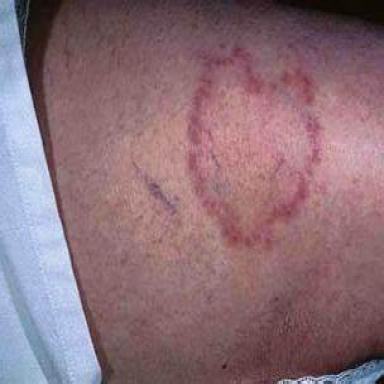Tinea-Corporis: (188, 49, 323, 245)
